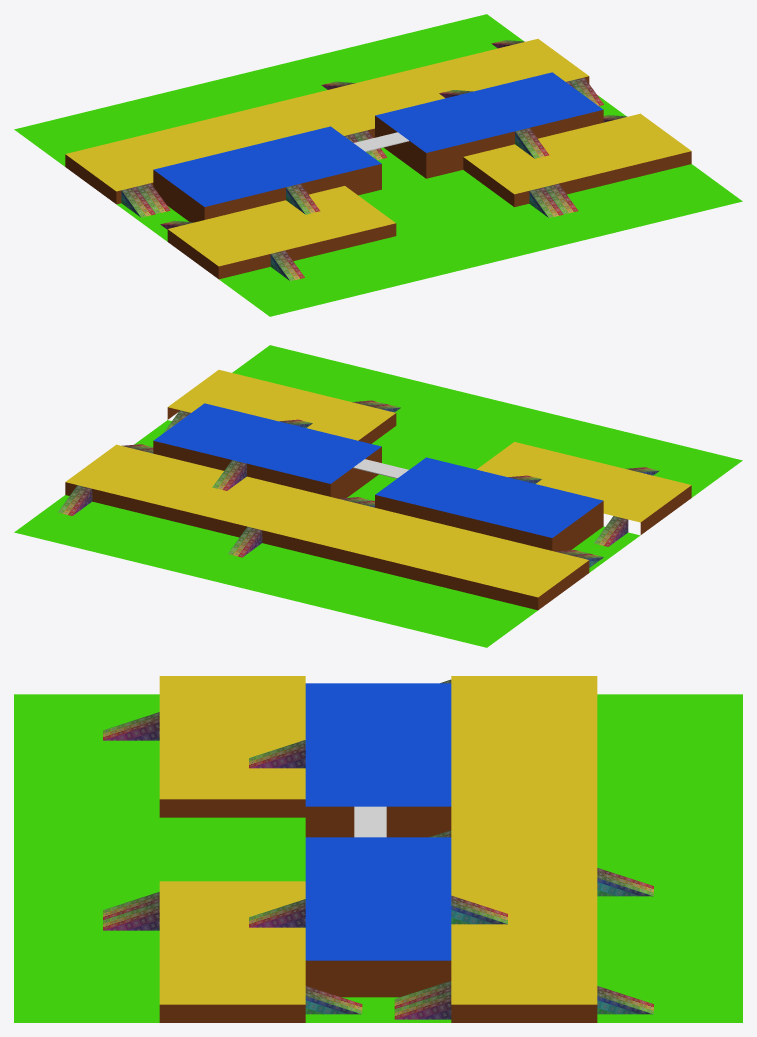
Rendered from map_abstract_nav_01.glb.
3 views of the same model, one above another, from view 1: azimuth 30°, elevation 25°; view 2: azimuth 150°, elevation 25°; view 3: azimuth 270°, elevation 25° (orthographic). The views are drawn at different scales.
Visible parts, largest first — view 1: level1.039, level1.043, level1.049, level1.042, level1.041, level1.044, level1.040, level1.045, level1.053, level1.051, level1.056, level1.054 (+21 smaller); view 2: level1.043, level1.049, level1.039, level1.042, level1.041, level1.040, level1.044, level1.071, level1.045, level1.077, level1.076, level1.047 (+11 smaller); view 3: level1.043, level1.049, level1.039, level1.041, level1.042, level1.044, level1.040, level1.045, level1.058, level1.074, level1.075, level1.072 (+16 smaller).
Boxes of the visible parts, left/top/right/bottom form: level1.039: left=219, top=164, right=742, bottom=316; level1.043: left=65, top=39, right=588, bottom=191; level1.049: left=14, top=14, right=523, bottom=166; level1.042: left=375, top=72, right=603, bottom=152; level1.041: left=154, top=126, right=381, bottom=206; level1.044: left=464, top=113, right=691, bottom=194; level1.040: left=168, top=186, right=395, bottom=266; level1.045: left=358, top=170, right=513, bottom=235; level1.053: left=559, top=151, right=691, bottom=194; level1.051: left=285, top=223, right=396, bottom=260; level1.056: left=426, top=131, right=514, bottom=165; level1.054: left=204, top=187, right=285, bottom=219; level1.043: left=65, top=444, right=588, bottom=597; level1.049: left=14, top=495, right=537, bottom=647; level1.039: left=232, top=345, right=742, bottom=497; level1.042: left=153, top=403, right=381, bottom=483; level1.041: left=375, top=457, right=602, bottom=537; level1.040: left=477, top=442, right=691, bottom=522; level1.044: left=168, top=370, right=395, bottom=440; level1.071: left=65, top=482, right=538, bottom=610; level1.045: left=372, top=426, right=500, bottom=469; level1.077: left=375, top=495, right=552, bottom=550; level1.076: left=153, top=441, right=330, bottom=496; level1.047: left=571, top=526, right=640, bottom=572; level1.043: left=451, top=676, right=597, bottom=1004; level1.049: left=597, top=694, right=742, bottom=1022; level1.039: left=14, top=694, right=159, bottom=1022; level1.041: left=305, top=683, right=451, bottom=806; level1.042: left=305, top=837, right=451, bottom=960; level1.044: left=159, top=881, right=305, bottom=1004; level1.040: left=159, top=676, right=305, bottom=799; level1.045: left=159, top=817, right=305, bottom=881; level1.058: left=159, top=799, right=305, bottom=817; level1.074: left=159, top=1004, right=305, bottom=1022; level1.075: left=451, top=1004, right=597, bottom=1022; level1.072: left=305, top=960, right=451, bottom=978.
Bounding box in the file's own units: 192 × 10 × 180.
5 materials, 1 textured.
